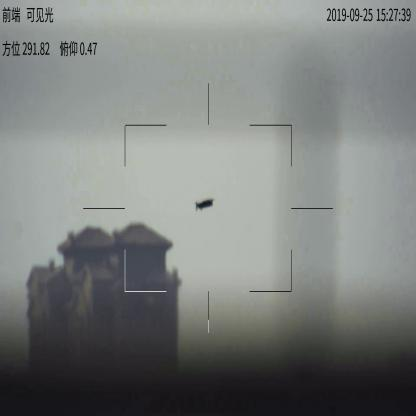uav: (196, 200, 214, 212)
